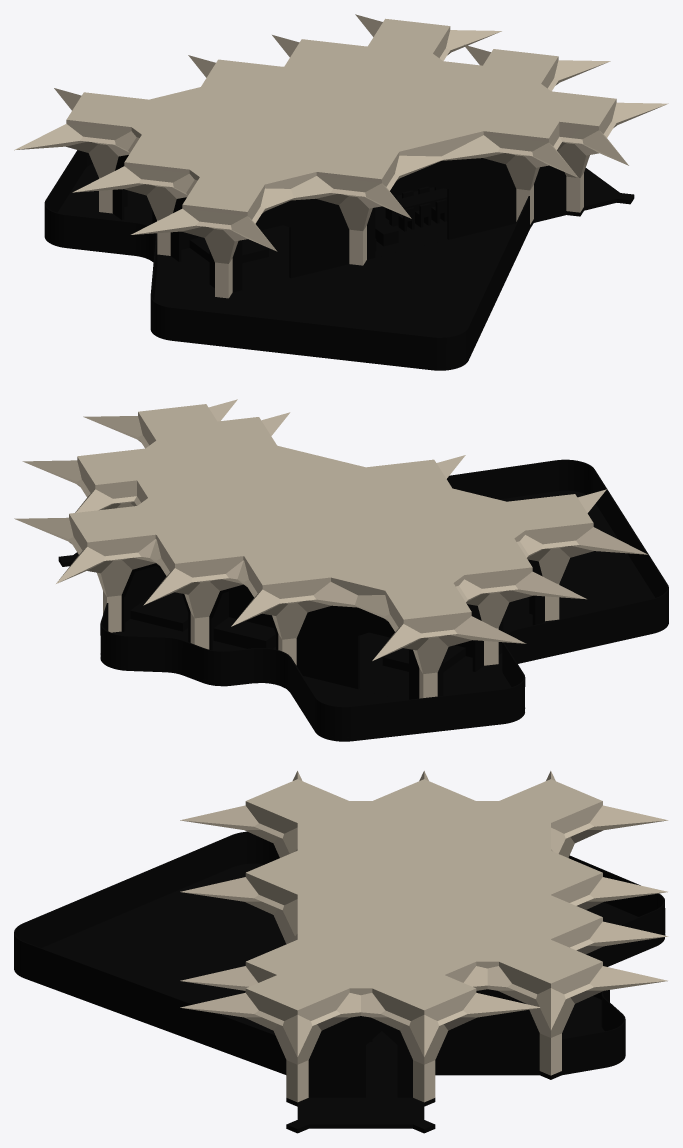
3 renders of one model, top to bottom at view 1: azimuth 30°, elevation 25°; view 2: azimuth 150°, elevation 25°; view 3: azimuth 270°, elevation 25°, orthographic. The views are drawn at different scales.
Parts seen in each view (by area): view 1: santech, object 11, object 10, object 29, object 4, object 6, object 54, object 5, object 28, object 77, object 76; view 2: santech, object 10, object 11, object 75, object 4, object 7, object 8, object 55, object 9, object 59, object 76, object 77 (+1 smaller); view 3: santech, object 10, object 11, object 4, object 52, object 55.
Boxes of the visible parts, x1=… form: santech: x1=14, y1=14, x2=668, y2=298; object 11: x1=44, y1=163, x2=529, y2=370; object 10: x1=44, y1=150, x2=529, y2=366; object 29: x1=367, y1=158, x2=516, y2=259; object 4: x1=122, y1=168, x2=634, y2=289; object 6: x1=232, y1=198, x2=349, y2=292; object 54: x1=534, y1=165, x2=566, y2=218; object 5: x1=189, y1=237, x2=268, y2=263; object 28: x1=389, y1=188, x2=447, y2=226; object 77: x1=170, y1=197, x2=214, y2=287; object 76: x1=112, y1=155, x2=156, y2=223; santech: x1=14, y1=399, x2=647, y2=698; object 10: x1=100, y1=459, x2=668, y2=737; object 11: x1=100, y1=490, x2=668, y2=741; object 75: x1=296, y1=605, x2=419, y2=699; object 4: x1=58, y1=552, x2=532, y2=700; object 7: x1=130, y1=595, x2=188, y2=631; object 8: x1=213, y1=617, x2=275, y2=648; object 55: x1=125, y1=566, x2=166, y2=621; object 9: x1=382, y1=645, x2=465, y2=671; object 59: x1=229, y1=587, x2=273, y2=627; object 76: x1=437, y1=604, x2=483, y2=696; object 77: x1=498, y1=559, x2=544, y2=654; santech: x1=180, y1=771, x2=668, y2=1102; object 10: x1=14, y1=831, x2=665, y2=1070; object 11: x1=14, y1=863, x2=665, y2=1075; object 4: x1=286, y1=1031, x2=561, y2=1133; object 52: x1=308, y1=1016, x2=412, y2=1097; object 55: x1=435, y1=989, x2=539, y2=1070.
Size of the model in its own units: 21.46 by 3.96 by 20.69.
